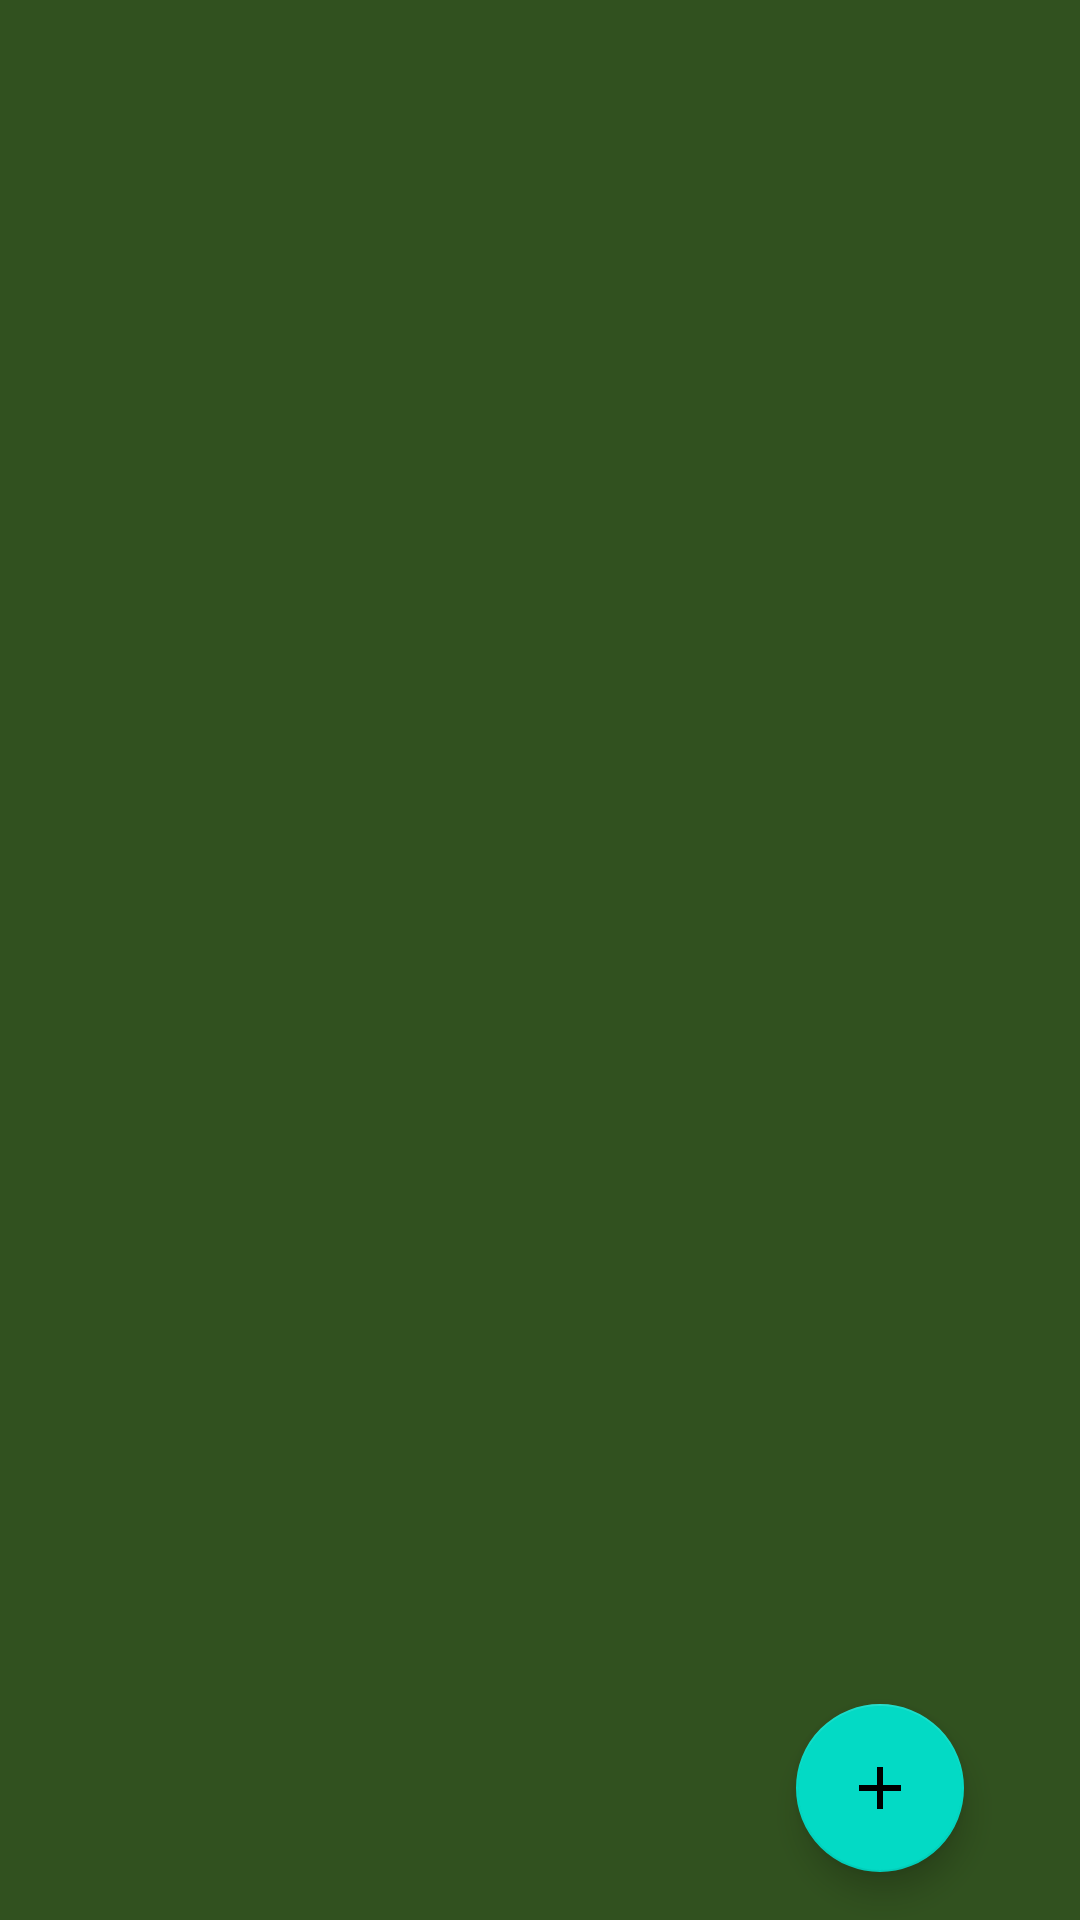

Screen size 1080 × 1920. Icon name, then its center in pixels as [x,y]:
add: [880,1788]
